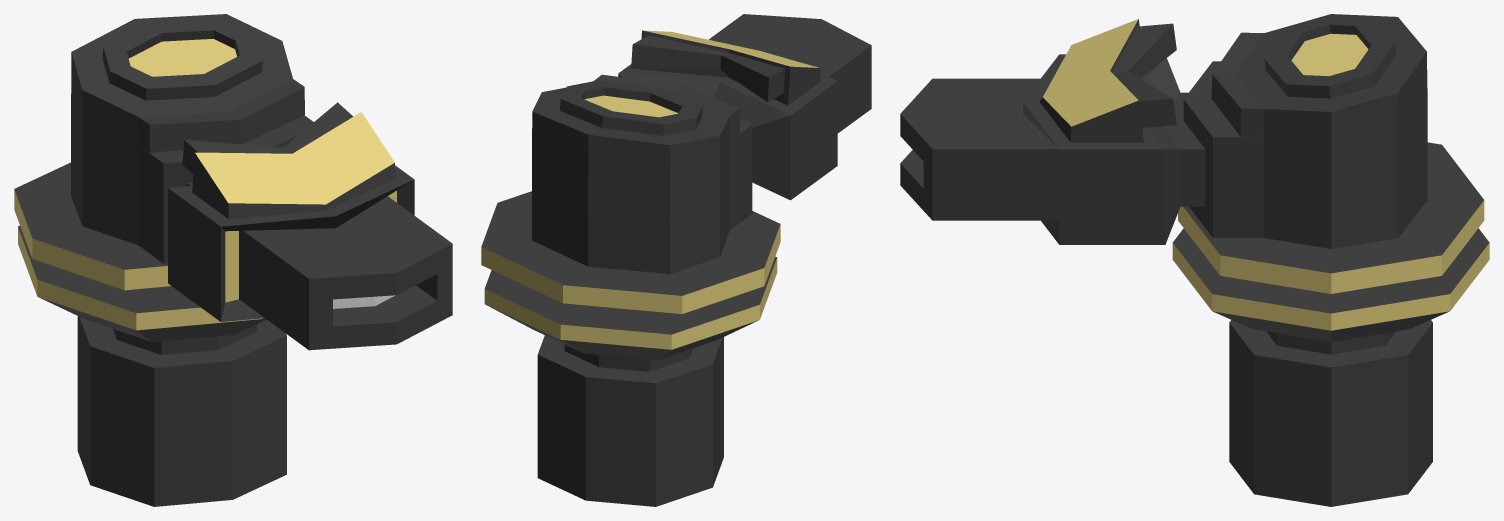
File: Laser_Turret.fbx
3 views of the same model, side by side, from view 1: azimuth 30°, elevation 25°; view 2: azimuth 150°, elevation 25°; view 3: azimuth 270°, elevation 25° (orthographic). The views are drawn at different scales.
Visible parts, largest first — view 1: Laser Turrret; view 2: Laser Turrret; view 3: Laser Turrret.
Boxes of the visible parts, x1,y1,x2,y2 form: Laser Turrret: (14, 14, 452, 506); Laser Turrret: (481, 14, 871, 506); Laser Turrret: (900, 14, 1489, 506).
Bounding box in the file's own units: 1.05 × 1.4 × 1.79.
